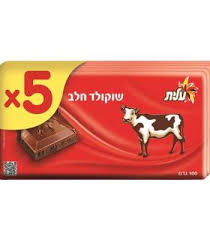Chocolate: (1, 57, 210, 179)
